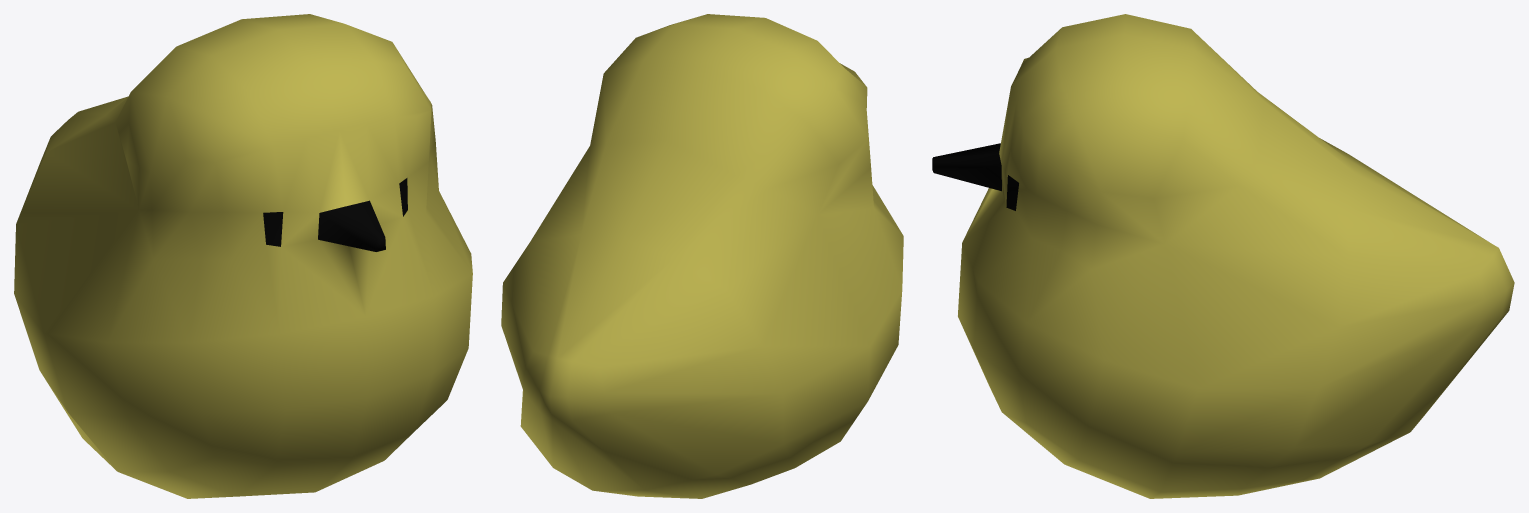
Rendered from Bird.fbx.
3 renders of one model, left to right at view 1: azimuth 30°, elevation 25°; view 2: azimuth 150°, elevation 25°; view 3: azimuth 270°, elevation 25°, orthographic. The views are drawn at different scales.
Parts seen in each view (by area): view 1: Cube.081; view 2: Cube.081; view 3: Cube.081.
Boxes of the visible parts, <box> form: Cube.081: <box>14,14,472,498</box>; Cube.081: <box>501,14,903,498</box>; Cube.081: <box>932,14,1514,498</box>.
Bounding box in the file's own units: 58.83 × 68.06 × 81.44.
